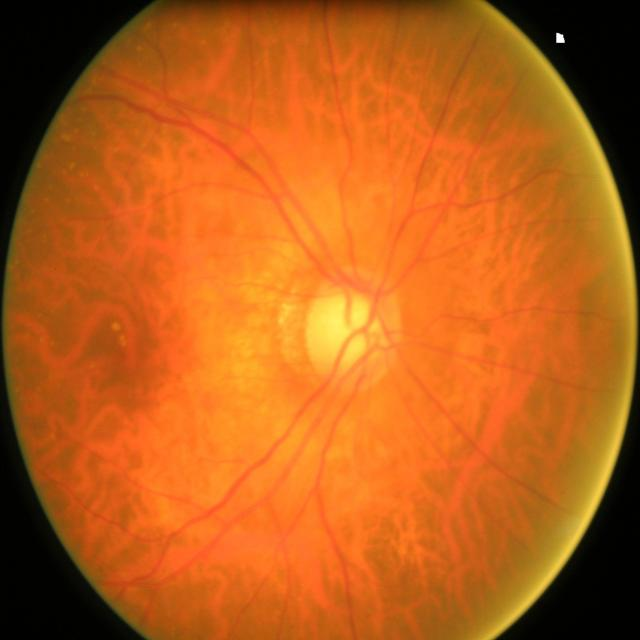OC: (327, 297, 377, 361)
OD: (307, 267, 402, 390)
